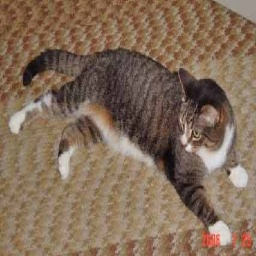cat: (25, 41, 246, 240)
